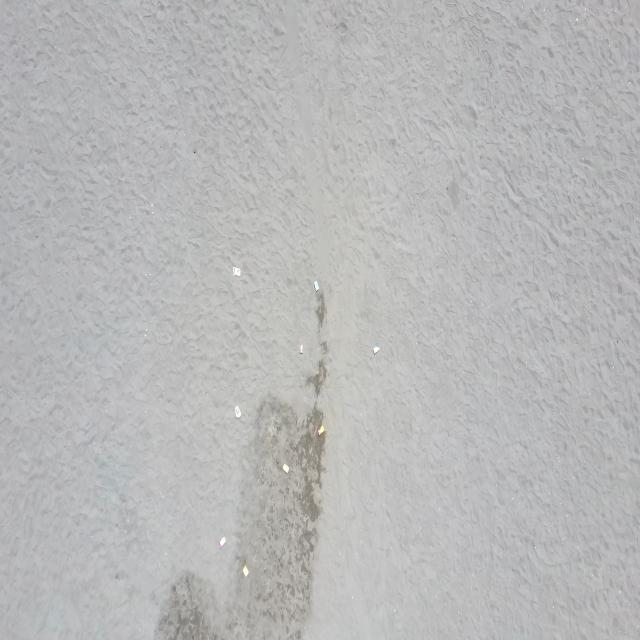retort-pouch: (232, 265, 242, 280), (372, 342, 381, 357), (218, 534, 226, 550), (242, 563, 250, 579), (234, 404, 242, 420), (282, 461, 290, 474), (317, 424, 325, 437), (313, 278, 320, 292), (299, 343, 304, 354)
